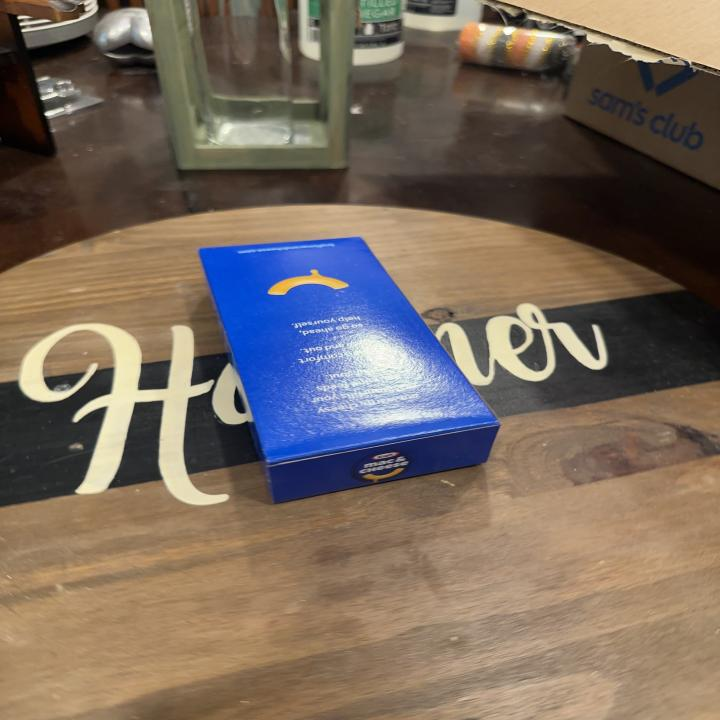Mac-And-Cheese: (199, 233, 501, 506)
